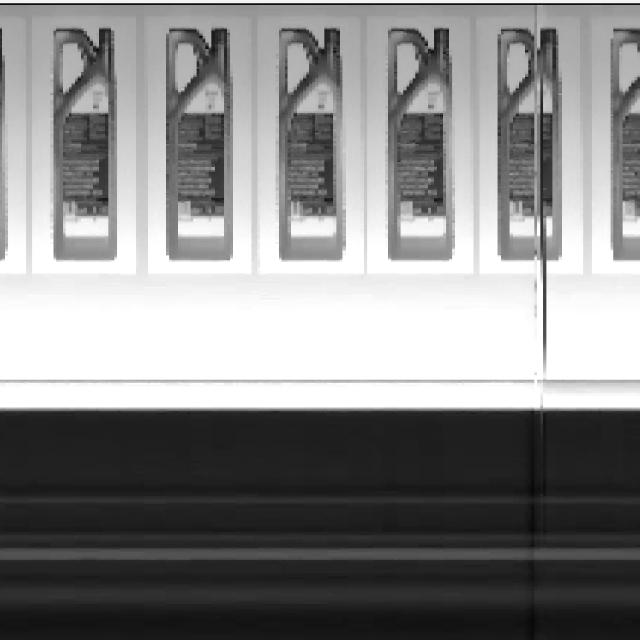motor_oil: (491, 18, 565, 270), (383, 18, 457, 268), (162, 16, 234, 268), (275, 20, 347, 264), (51, 20, 119, 272)
